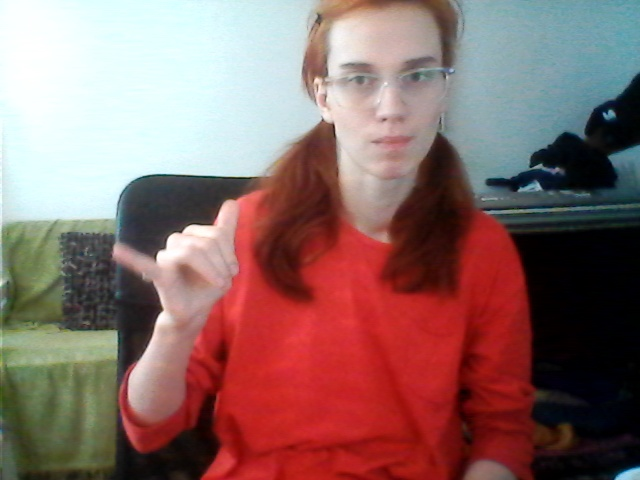ano: (108, 195, 273, 324)
